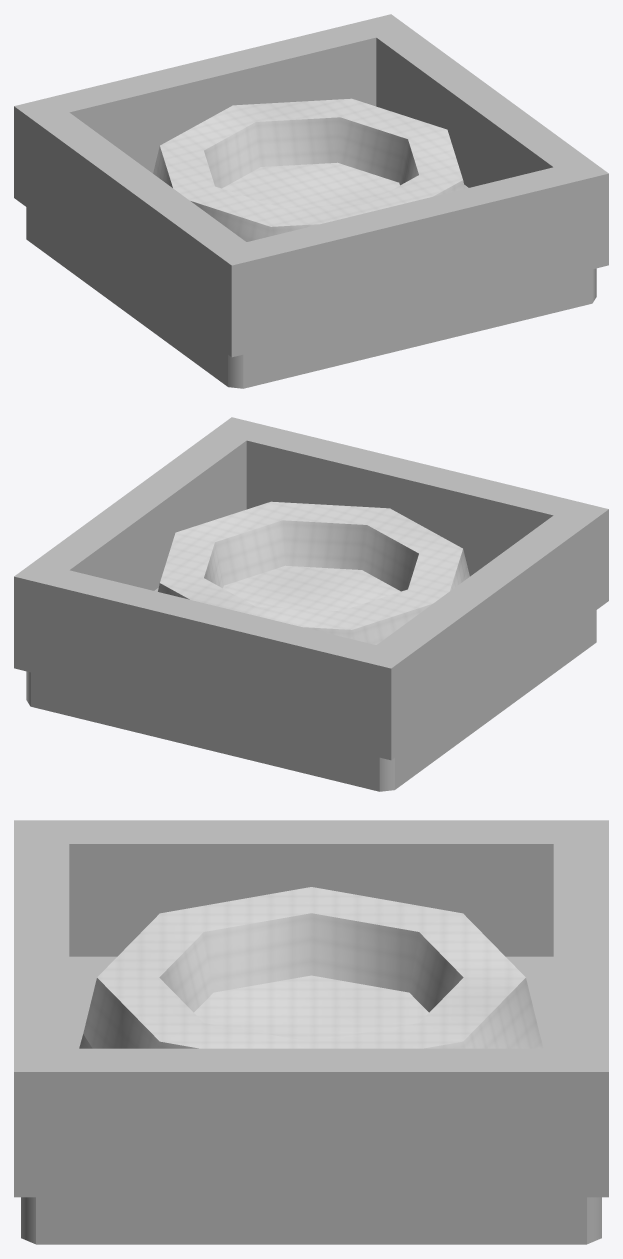
File: egg_box.obj
3 renders of one model, top to bottom at view 1: azimuth 30°, elevation 25°; view 2: azimuth 150°, elevation 25°; view 3: azimuth 270°, elevation 25°, orthographic. The views are drawn at different scales.
Visible parts, largest first — view 1: retained_12, retained_80, nest_base, retained_60; view 2: retained_12, retained_80, nest_base, retained_60; view 3: retained_12, retained_80, nest_base, retained_60.
Boxes of the visible parts, left/top/right/bottom form: retained_12: left=14, top=14, right=608, bottom=357; retained_80: left=153, top=98, right=464, bottom=241; nest_base: left=26, top=185, right=596, bottom=388; retained_60: left=222, top=162, right=399, bottom=208; retained_12: left=14, top=417, right=608, bottom=760; retained_80: left=158, top=501, right=469, bottom=644; nest_base: left=26, top=588, right=596, bottom=791; retained_60: left=223, top=565, right=400, bottom=611; retained_12: left=14, top=820, right=608, bottom=1197; retained_80: left=83, top=887, right=543, bottom=1048; nest_base: left=21, top=956, right=601, bottom=1244; retained_60: left=79, top=975, right=428, bottom=1048.
Size of the model in its own units: 0.86 by 0.28 by 0.86.
